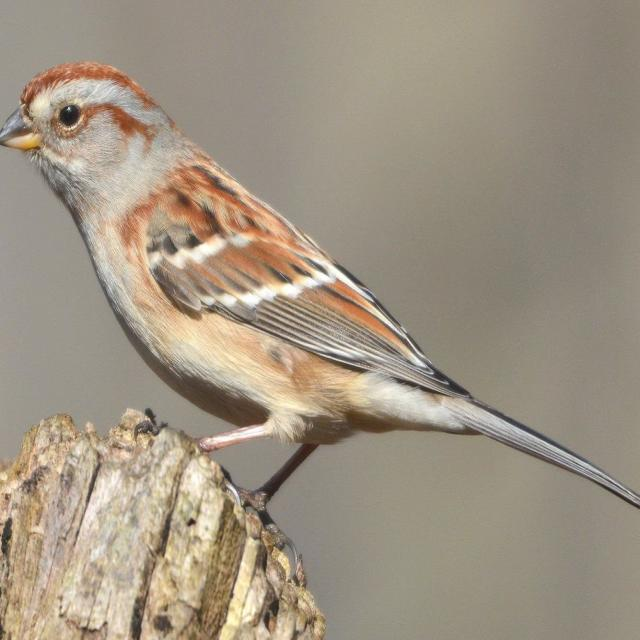Sparrow: (9, 59, 635, 538)
